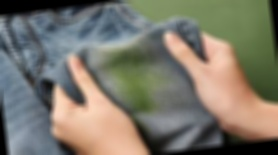earth: (112, 47, 155, 109)
